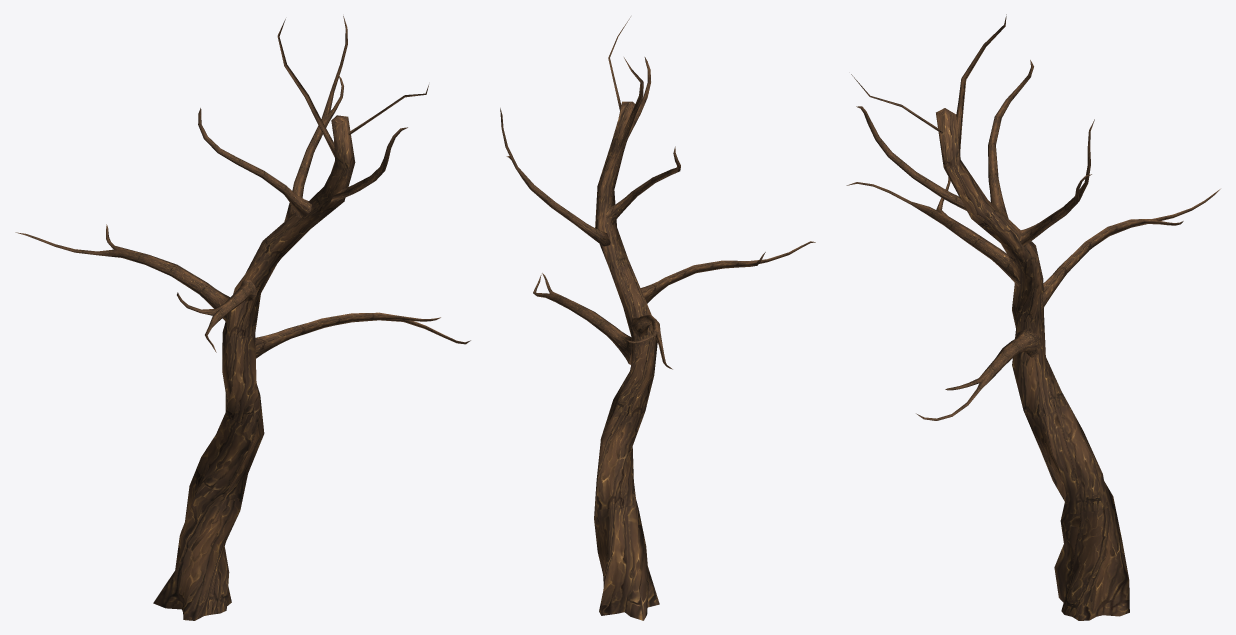
The model's file is DeadTree6.fbx.
3 views of the same model, side by side, from view 1: azimuth 30°, elevation 25°; view 2: azimuth 150°, elevation 25°; view 3: azimuth 270°, elevation 25° (orthographic). The views are drawn at different scales.
Visible parts, largest first — view 1: tree2_0; view 2: tree2_0; view 3: tree2_0.
Part boxes in pixels (bbox=[...]): tree2_0: bbox=[15, 16, 470, 620]; tree2_0: bbox=[500, 17, 815, 620]; tree2_0: bbox=[846, 14, 1220, 620].
Bounding box in the file's own units: 279 × 528 × 293.
1 material, 1 textured.
